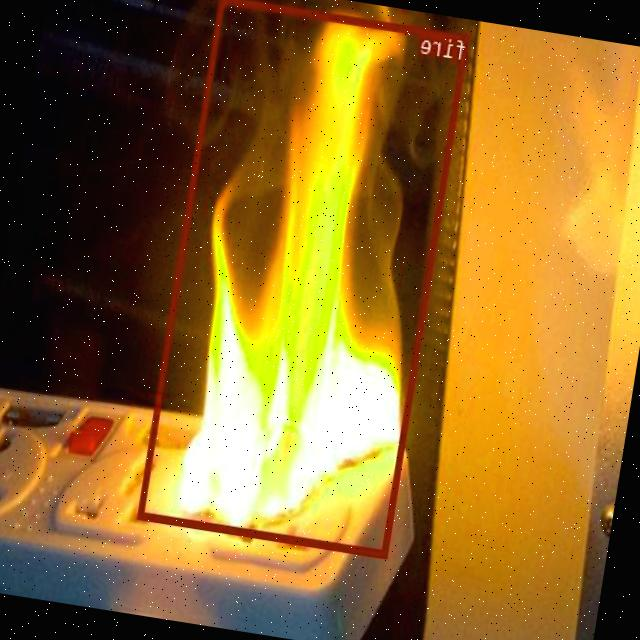fire: (138, 0, 470, 558)
